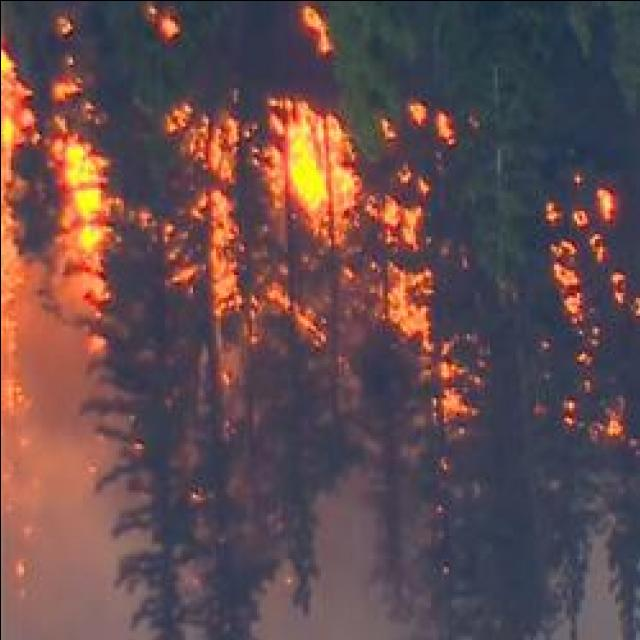fire: (292, 121, 347, 198), (206, 190, 231, 308), (68, 152, 98, 236), (392, 268, 432, 328), (560, 257, 574, 294)
smoke: (284, 432, 406, 546), (12, 302, 92, 413)
